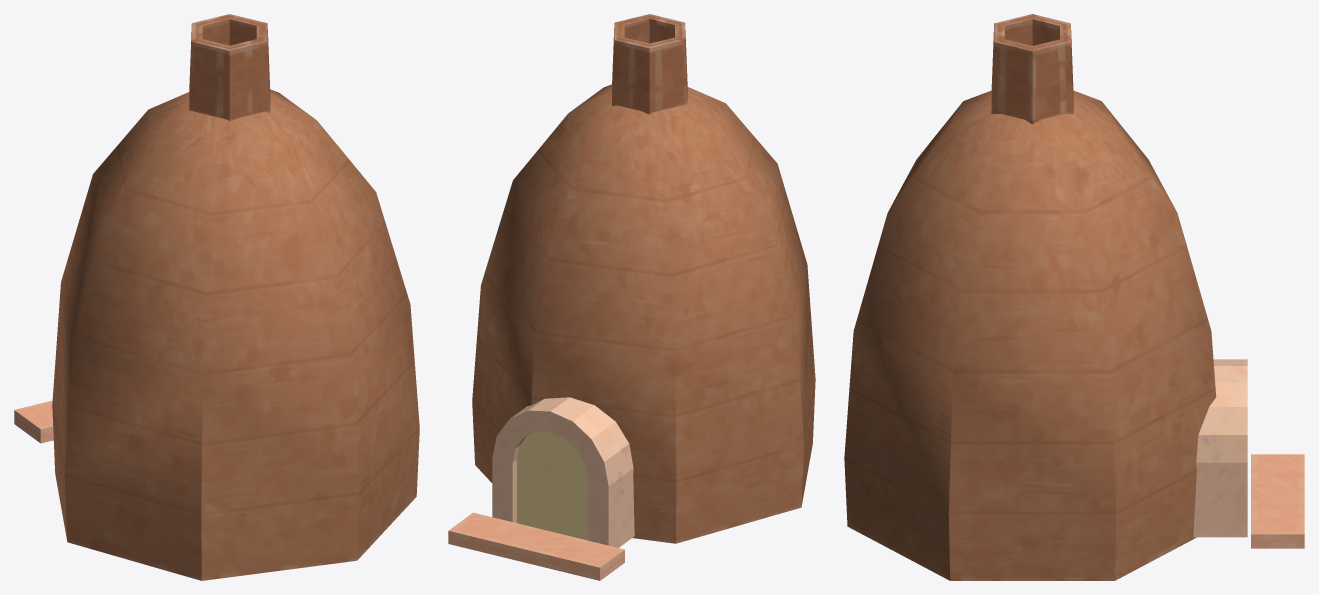
File: kiln_low.fbx
3 renders of one model, left to right at view 1: azimuth 30°, elevation 25°; view 2: azimuth 150°, elevation 25°; view 3: azimuth 270°, elevation 25°, orthographic. The views are drawn at different scales.
Visible parts, largest first — view 1: kiln; view 2: kiln; view 3: kiln.
Part boxes in pixels (x1,y1,x2,y2): kiln: [14, 14, 419, 580]; kiln: [448, 14, 815, 580]; kiln: [844, 14, 1304, 580].
Size of the model in its own units: 5.8 by 8.3 by 7.27.
1 material, 1 textured.
